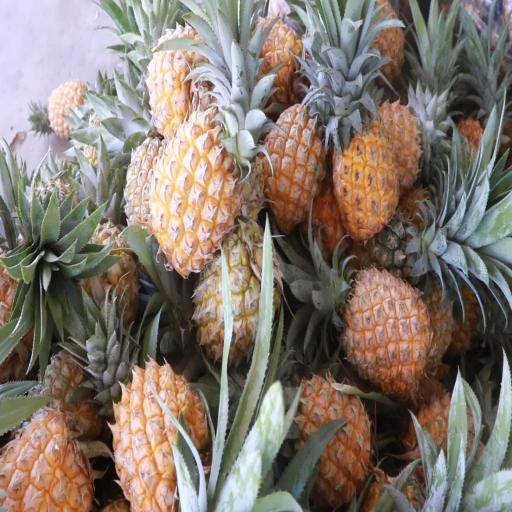------------------------------: (199, 240, 276, 369)
Pineapple - v8 v1: (111, 364, 201, 508), (151, 120, 235, 264), (291, 376, 373, 502), (344, 272, 429, 387), (0, 416, 92, 512), (262, 103, 331, 225), (333, 124, 399, 233), (146, 29, 212, 134), (254, 16, 305, 94)
